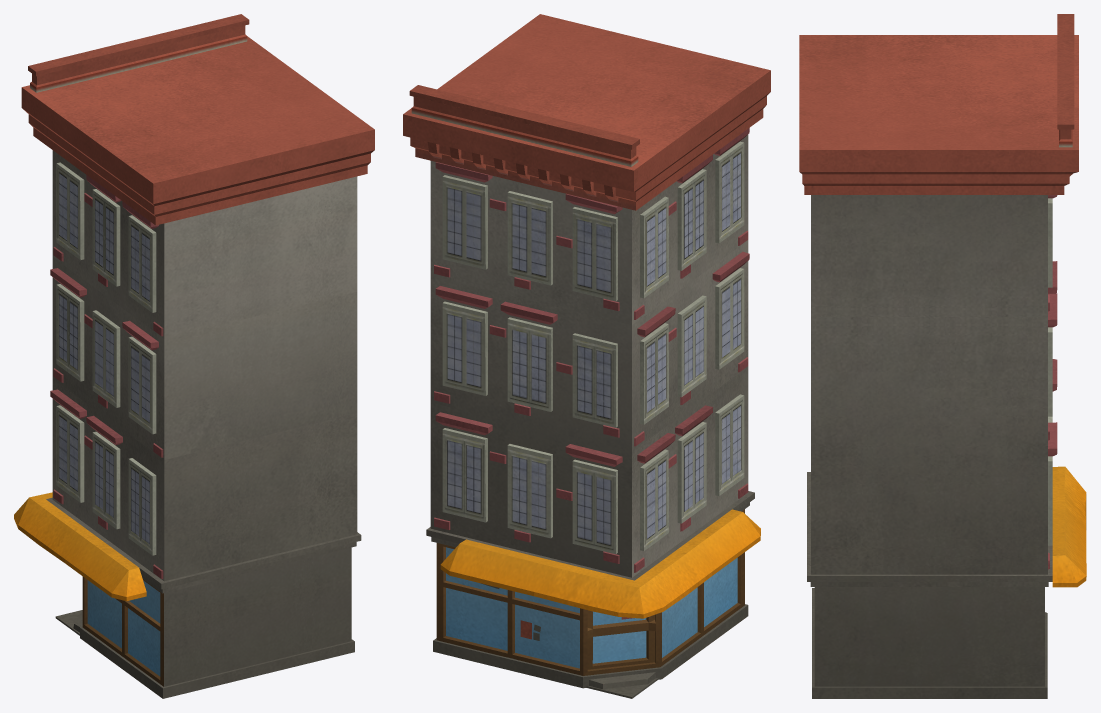
Rendered from BLD1210003.fbx.
3 views of the same model, side by side, from view 1: azimuth 30°, elevation 25°; view 2: azimuth 150°, elevation 25°; view 3: azimuth 270°, elevation 25° (orthographic). The views are drawn at different scales.
Visible parts, largest first — view 1: smBLD1210003; view 2: smBLD1210003; view 3: smBLD1210003.
Boxes of the visible parts, x1,y1,x2,y2 form: smBLD1210003: (14,14,374,698); smBLD1210003: (403,14,770,698); smBLD1210003: (799,14,1086,698).
Size of the model in its own units: 800 by 1755 by 788.
1 material, 1 textured.
